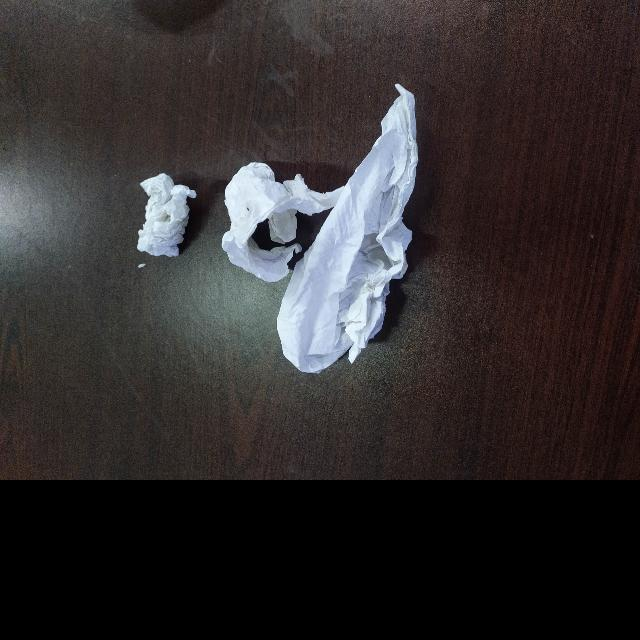kitchen paper: (275, 72, 420, 376), (216, 156, 342, 282), (135, 168, 200, 264)
